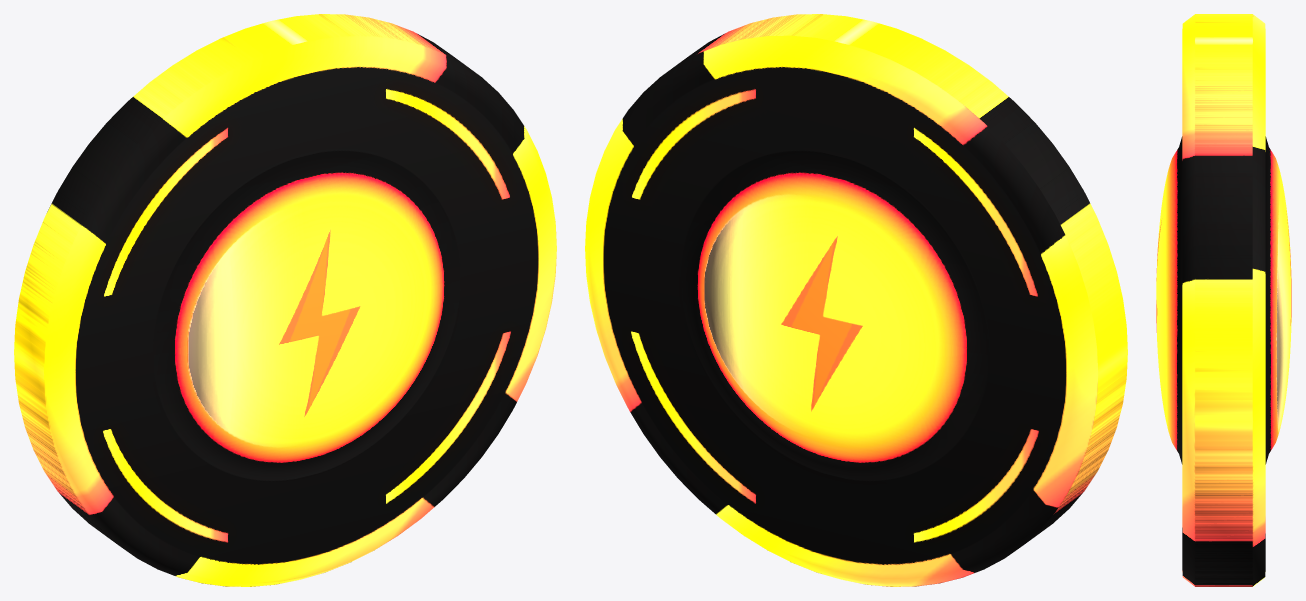
File: bonus_speed.glb
3 views of the same model, side by side, from view 1: azimuth 30°, elevation 25°; view 2: azimuth 150°, elevation 25°; view 3: azimuth 270°, elevation 25° (orthographic). The views are drawn at different scales.
Parts seen in each view (by area): view 1: bonus_speed; view 2: bonus_speed; view 3: bonus_speed.
Part boxes in pixels (x1,y1,x2,y2): bonus_speed: (14, 14, 556, 586); bonus_speed: (585, 14, 1127, 586); bonus_speed: (1156, 14, 1291, 586).
Size of the model in its own units: 1.1 by 1.1 by 0.26.
1 material, 1 textured.
